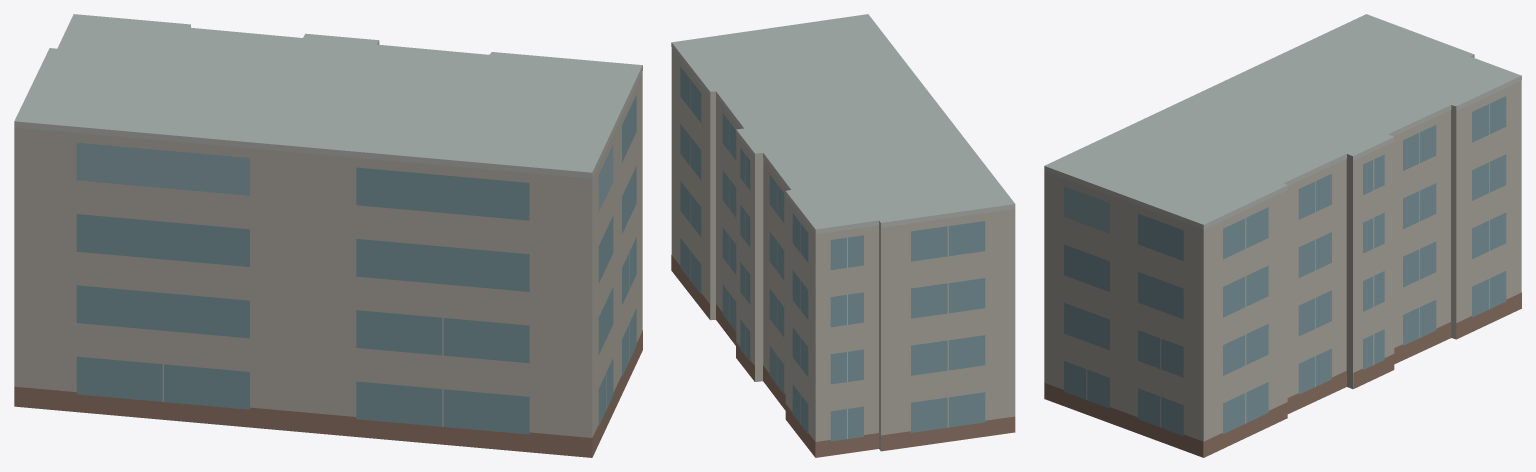
The model's file is survey-upis-32901584.glb.
The picture shows the model from 3 angles, left to right: view 1: azimuth 30°, elevation 25°; view 2: azimuth 150°, elevation 25°; view 3: azimuth 270°, elevation 25°; orthographic projection. The views are drawn at different scales.
Visible parts, largest first — view 1: survey-upis-32901584.tmp; view 2: survey-upis-32901584.tmp; view 3: survey-upis-32901584.tmp.
Part boxes in pixels (x1,y1,x2,y2): survey-upis-32901584.tmp: (14,14,642,457); survey-upis-32901584.tmp: (671,14,1015,457); survey-upis-32901584.tmp: (1044,14,1521,457).
Bounding box in the file's own units: 22.56 × 11.62 × 21.59.
